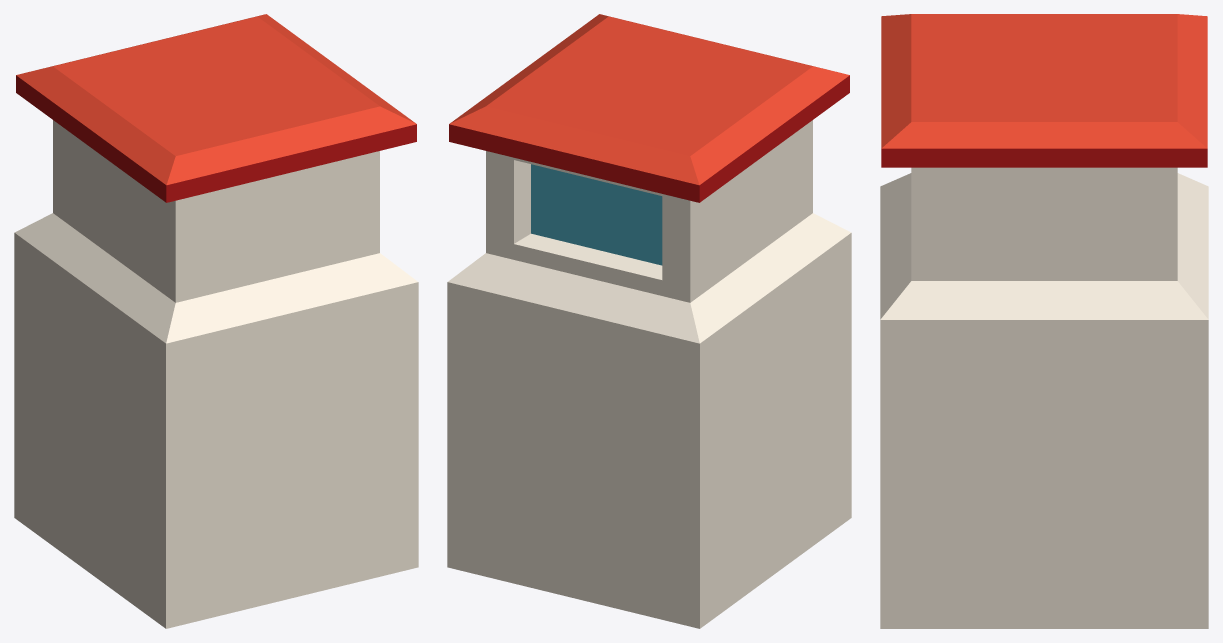
The model's file is WatchTower.fbx.
3 renders of one model, left to right at view 1: azimuth 30°, elevation 25°; view 2: azimuth 150°, elevation 25°; view 3: azimuth 270°, elevation 25°, orthographic. The views are drawn at different scales.
Visible parts, largest first — view 1: WatchTower; view 2: WatchTower; view 3: WatchTower.
Part boxes in pixels (x1,y1,x2,y2): WatchTower: (14, 14, 418, 628); WatchTower: (447, 14, 851, 628); WatchTower: (880, 14, 1208, 628).
Bounding box in the file's own units: 39.23 × 67.78 × 40.83.
